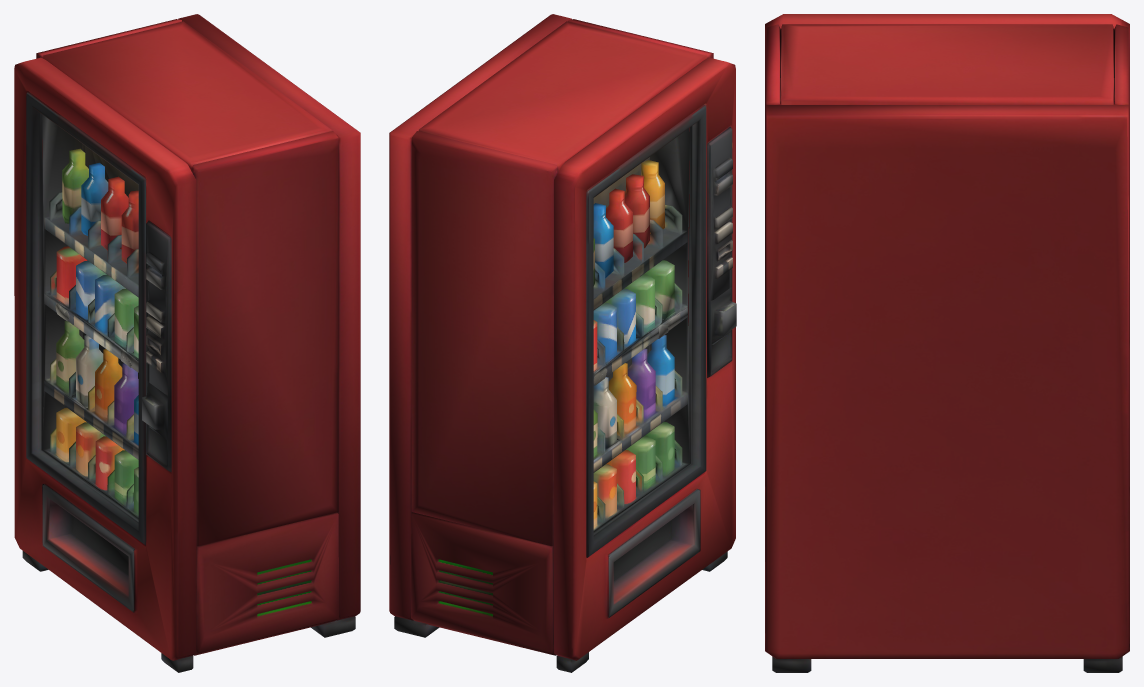
The model's file is vending.glb.
3 views of the same model, side by side, from view 1: azimuth 30°, elevation 25°; view 2: azimuth 150°, elevation 25°; view 3: azimuth 270°, elevation 25° (orthographic). The views are drawn at different scales.
Visible parts, largest first — view 1: tripo_node_1887c5da-f04d-4adb-84e0-ab920805b5f2; view 2: tripo_node_1887c5da-f04d-4adb-84e0-ab920805b5f2; view 3: tripo_node_1887c5da-f04d-4adb-84e0-ab920805b5f2.
Boxes of the visible parts, x1=… form: tripo_node_1887c5da-f04d-4adb-84e0-ab920805b5f2: x1=14, y1=14, x2=360, y2=672; tripo_node_1887c5da-f04d-4adb-84e0-ab920805b5f2: x1=389, y1=14, x2=736, y2=672; tripo_node_1887c5da-f04d-4adb-84e0-ab920805b5f2: x1=765, y1=14, x2=1129, y2=672.
Size of the model in its own units: 0.4043 by 0.9941 by 0.584.
Materials: 1 (1 with a texture image).
